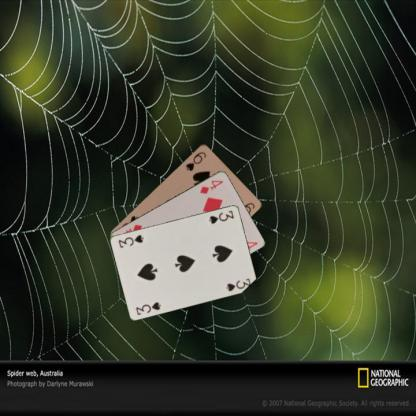3s: (206, 207, 235, 225), (134, 299, 162, 316)
4d: (197, 178, 225, 196)
6s: (183, 149, 208, 172)
